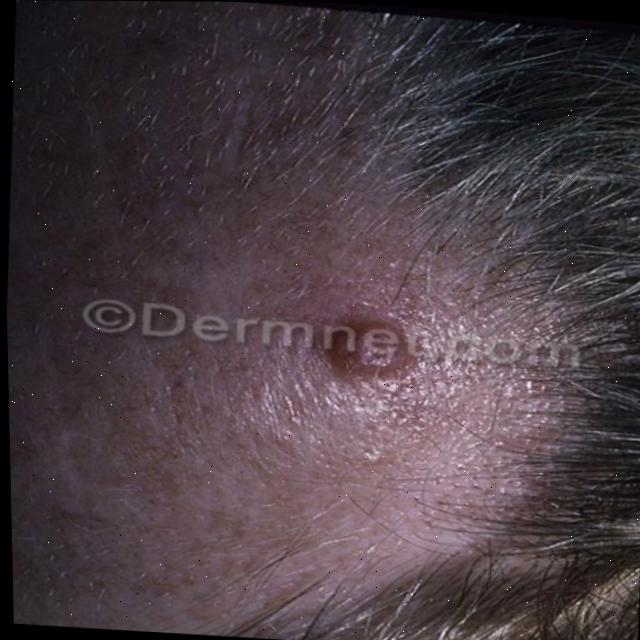Eczema: (291, 305, 433, 409)
